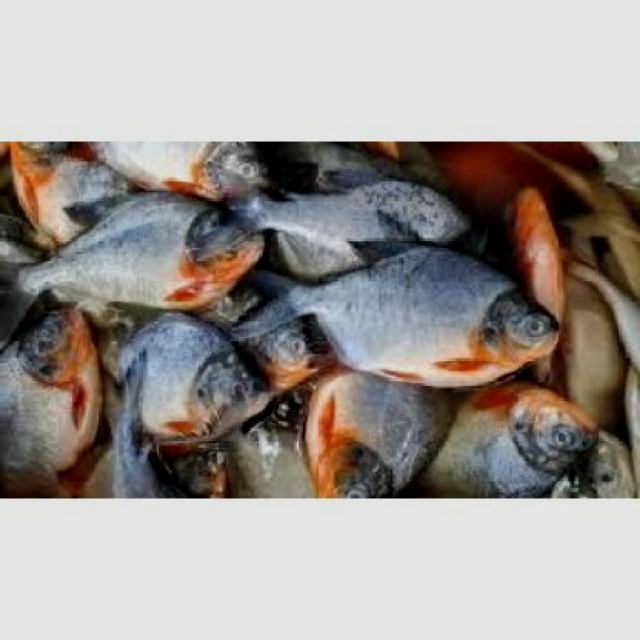ikan-pacu: (311, 252, 557, 380), (22, 194, 267, 308), (117, 304, 265, 440), (442, 383, 598, 497), (2, 308, 100, 476), (312, 366, 436, 496), (93, 140, 270, 186)
